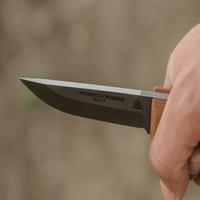knife: (4, 61, 191, 146)
